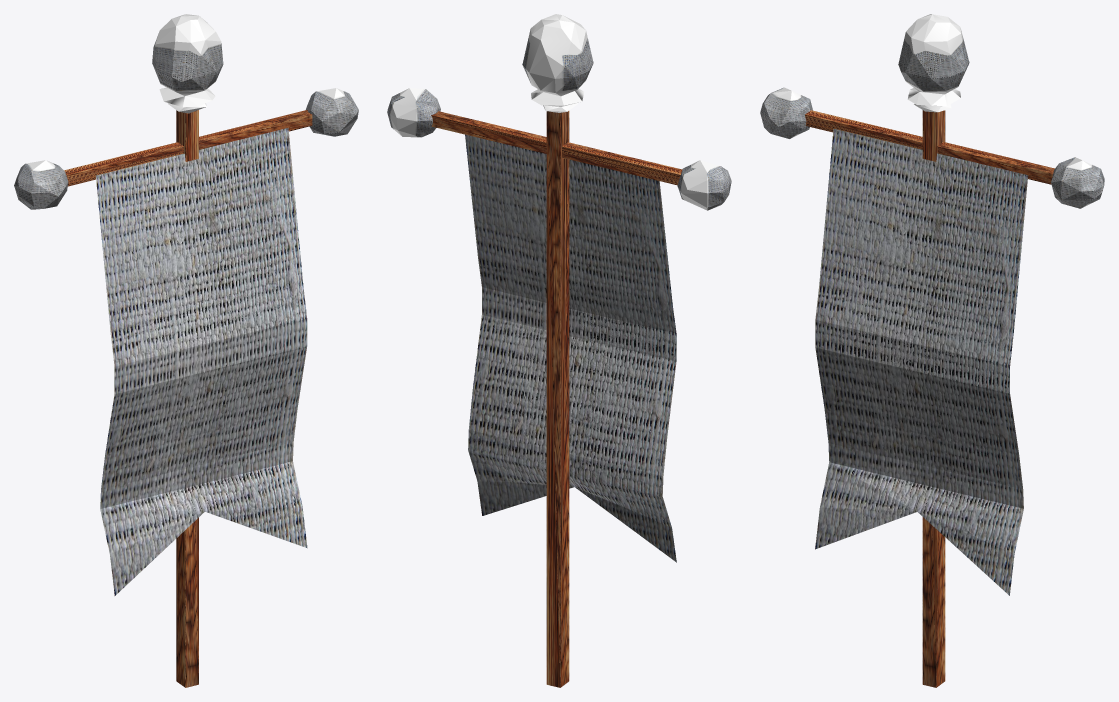
File: roadflag.FBX
3 renders of one model, left to right at view 1: azimuth 30°, elevation 25°; view 2: azimuth 150°, elevation 25°; view 3: azimuth 330°, elevation 25°, orthographic.
Visible parts, largest first — view 1: NoName5, NoName1001, NoName2, NoName3, NoName4; view 2: NoName5, NoName1001, NoName2, NoName4, NoName3; view 3: NoName5, NoName1001, NoName2, NoName4, NoName3.
Boxes of the visible parts, x1=… form: NoName5: x1=96, y1=127, x2=307, y2=595; NoName1001: x1=64, y1=110, x2=312, y2=687; NoName2: x1=152, y1=14, x2=223, y2=113; NoName3: x1=14, y1=160, x2=68, y2=209; NoName4: x1=306, y1=88, x2=358, y2=136; NoName5: x1=465, y1=134, x2=676, y2=562; NoName1001: x1=431, y1=111, x2=682, y2=687; NoName2: x1=522, y1=14, x2=593, y2=112; NoName4: x1=387, y1=88, x2=440, y2=137; NoName3: x1=677, y1=160, x2=731, y2=210; NoName5: x1=815, y1=129, x2=1028, y2=595; NoName1001: x1=805, y1=110, x2=1054, y2=687; NoName2: x1=898, y1=14, x2=969, y2=112; NoName4: x1=1051, y1=157, x2=1104, y2=208; NoName3: x1=760, y1=87, x2=812, y2=138.
Bounding box in the file's own units: 0.0738 × 0.139 × 0.015.
